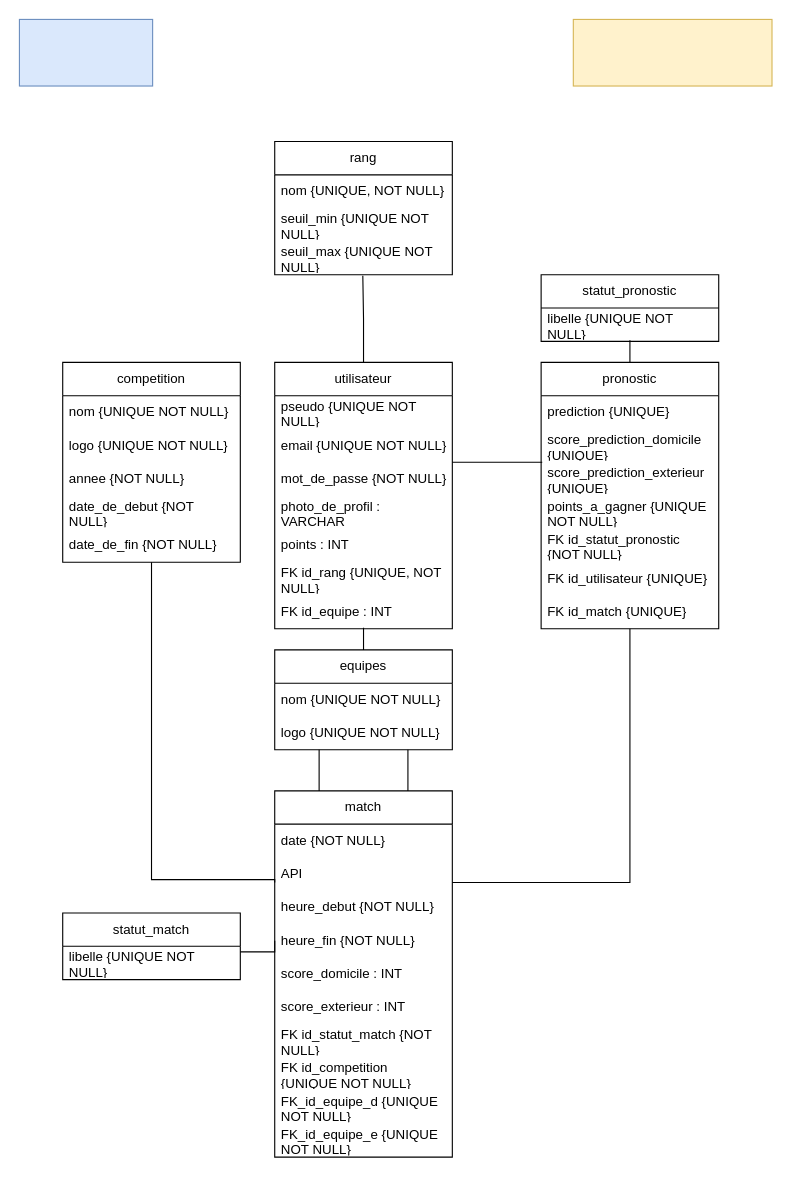
Image size: 791x1177. Some labels were removed from this diagram. The centre of each missing label's shape, as x and y in pixels:
"MLD" goes at (x=85, y=52).
"Tous les objets contiennent un PK_ID {UNIQUE, NOT NULL}" goes at (x=672, y=52).
